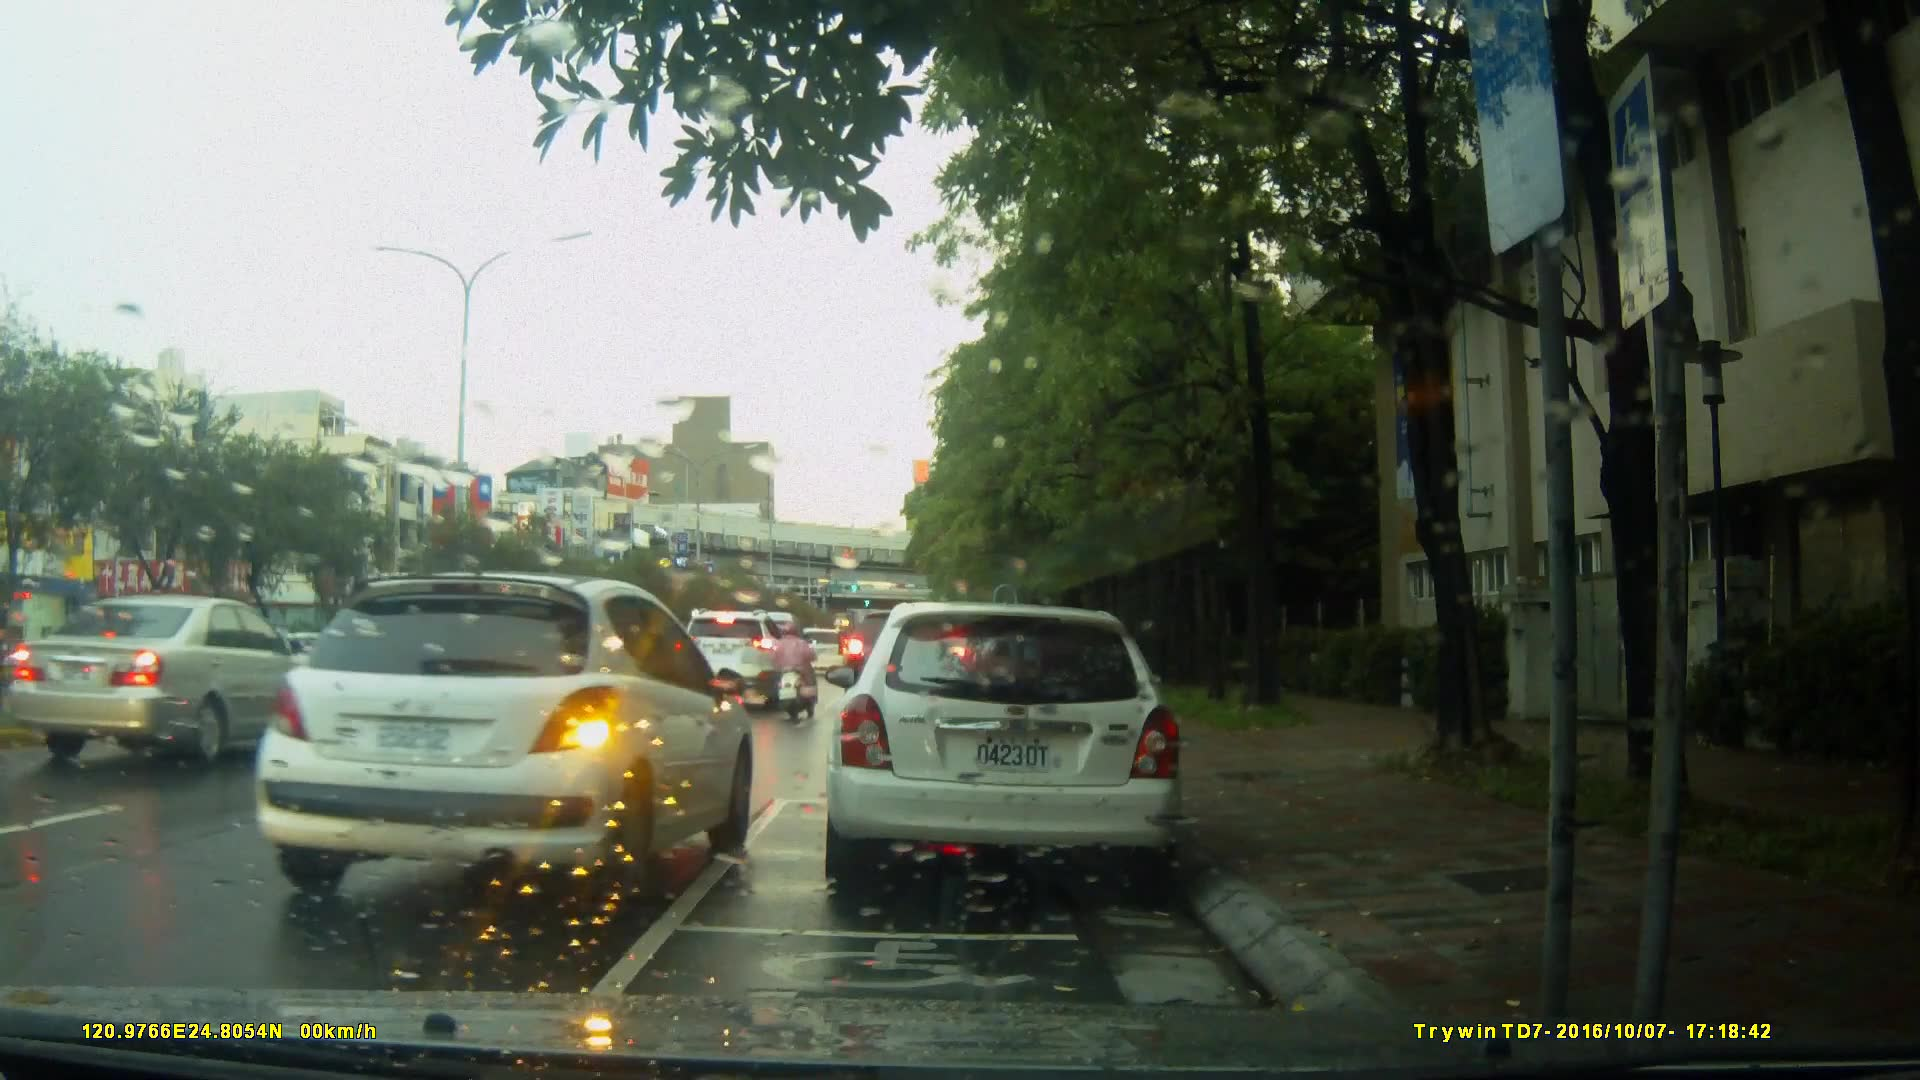rider: (768, 614, 814, 724)
vehicle: (246, 569, 759, 912), (820, 602, 1188, 898), (10, 593, 349, 772), (675, 609, 792, 709)
